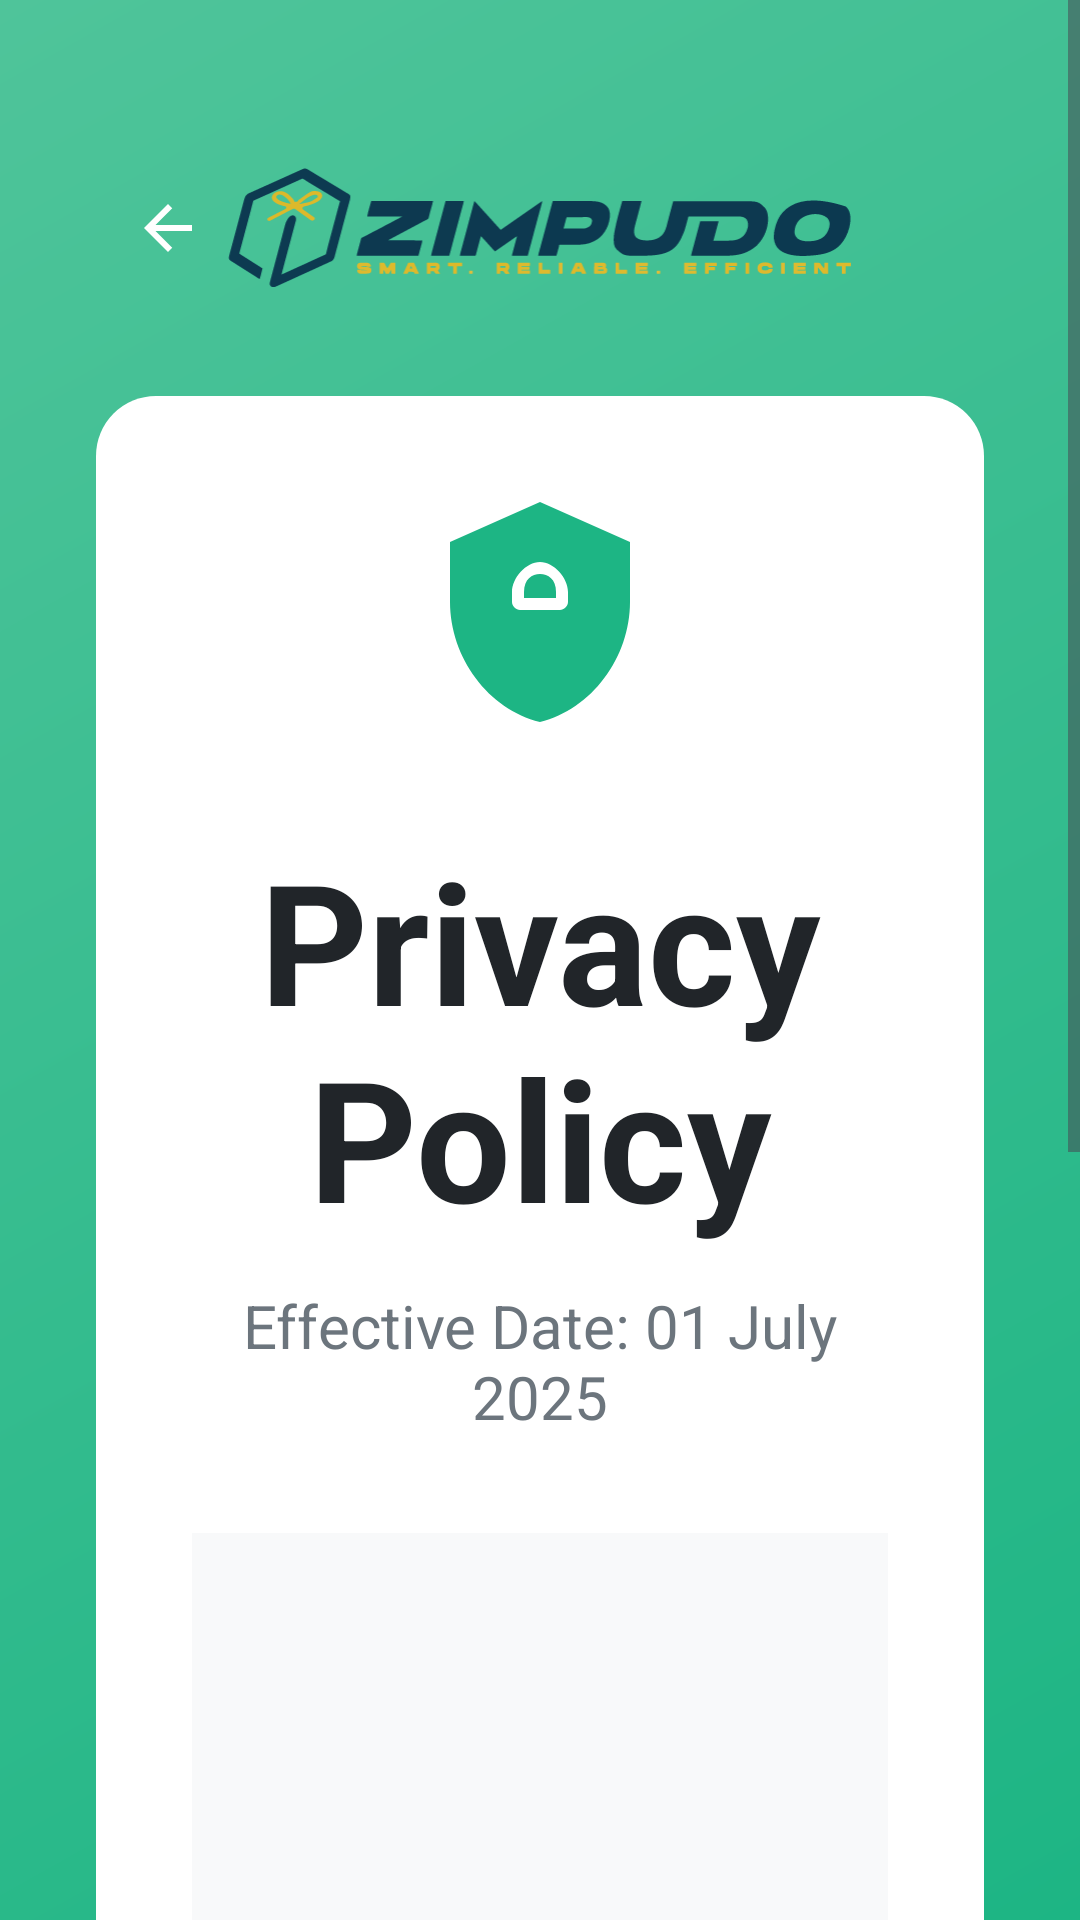

Screen size 1080w x 1920h. Icon name, then its box in pixels as (x1, y1, x2, y2):
Back: (144, 204, 192, 252)
